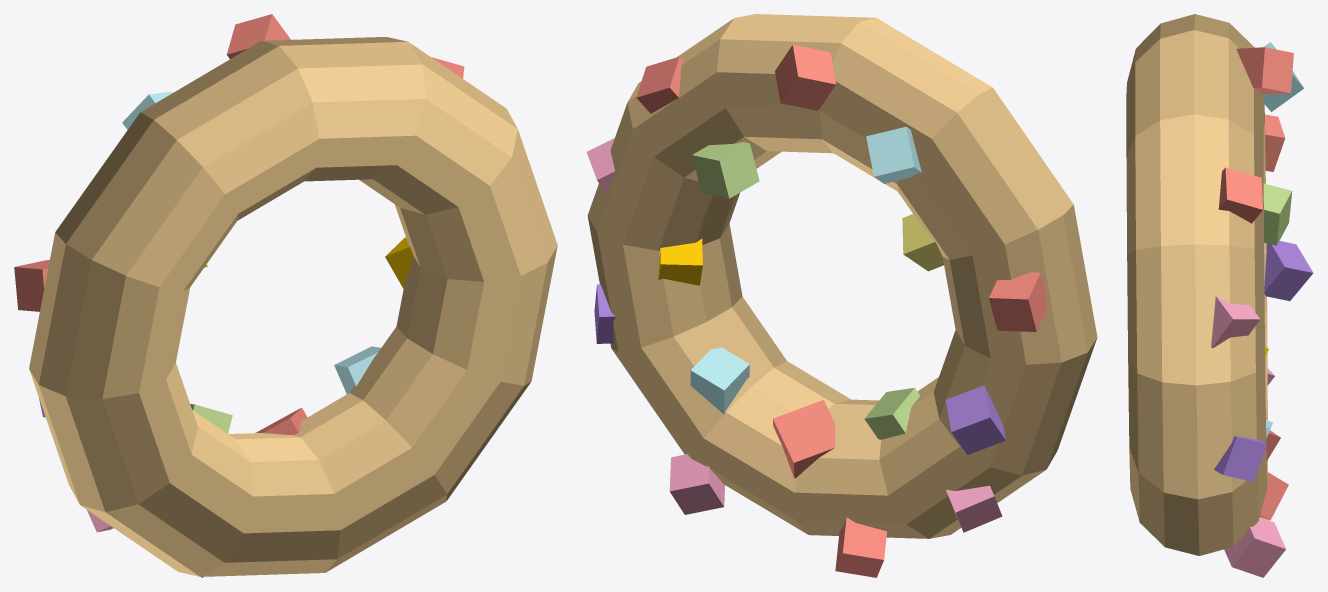
File: donut.fbx
3 renders of one model, left to right at view 1: azimuth 30°, elevation 25°; view 2: azimuth 150°, elevation 25°; view 3: azimuth 270°, elevation 25°, orthographic. The views are drawn at different scales.
Visible parts, largest first — view 1: donut; view 2: donut; view 3: donut.
Boxes of the visible parts, x1,y1,x2,y2 form: donut: (14, 14, 557, 577); donut: (586, 14, 1097, 577); donut: (1126, 14, 1313, 577).
Size of the model in its own units: 15.33 by 15.62 by 5.24.
